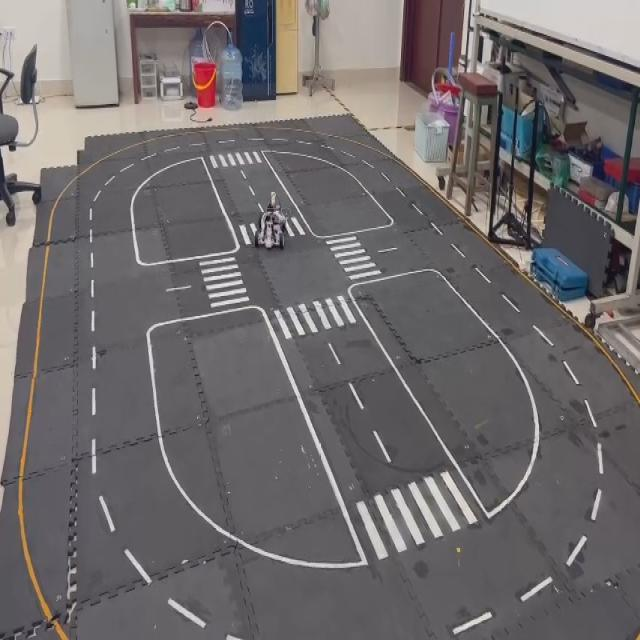SiCo-CAR: (252, 189, 288, 251)
